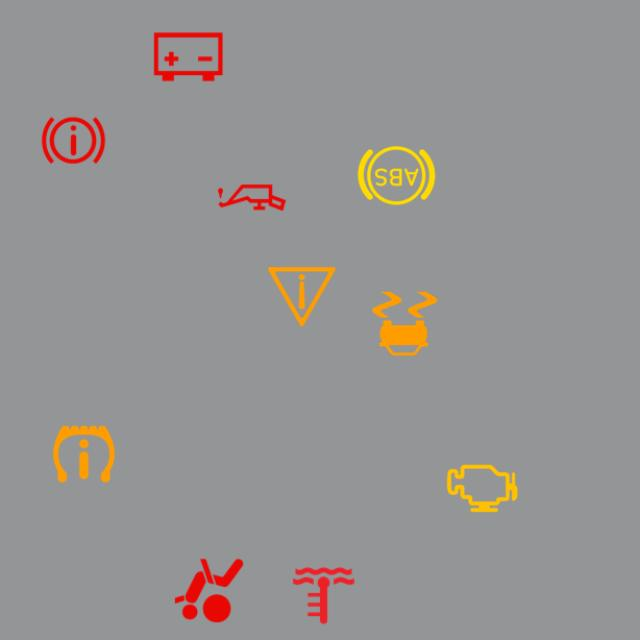Anti Lock Braking System: (354, 133, 439, 218)
Braking System Issue: (31, 98, 116, 182)
Charging System Issue: (146, 15, 230, 99)
Check Engine: (440, 446, 524, 531)
Electronic Stability Problem -ESP-: (363, 281, 447, 366)
Engine Overheating Warning Light: (281, 553, 366, 638)
Low Engine Oil Warning Light: (209, 155, 294, 240)
Low Tire Pressure Warning Light: (42, 412, 126, 496)
Master warning light: (260, 254, 344, 339)
SRS-Airbag: (167, 548, 251, 633)
